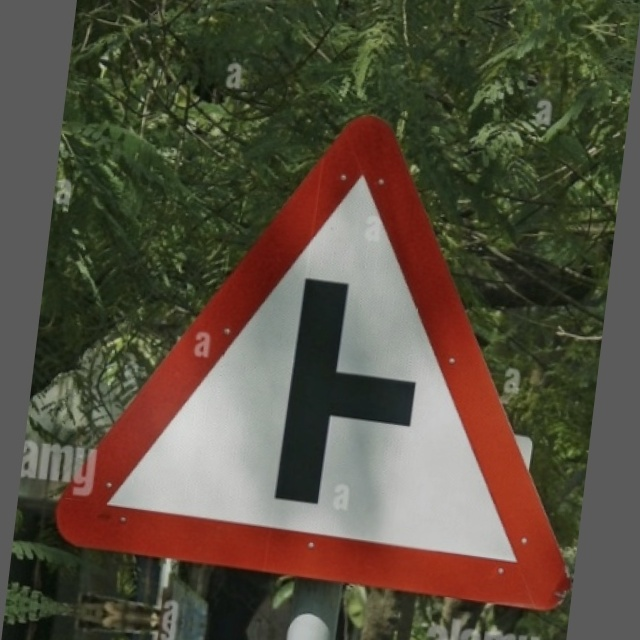Side_Road_Right: (77, 72, 605, 605)
